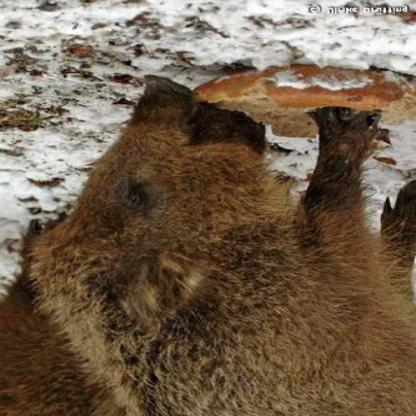boar: (5, 47, 415, 416)
